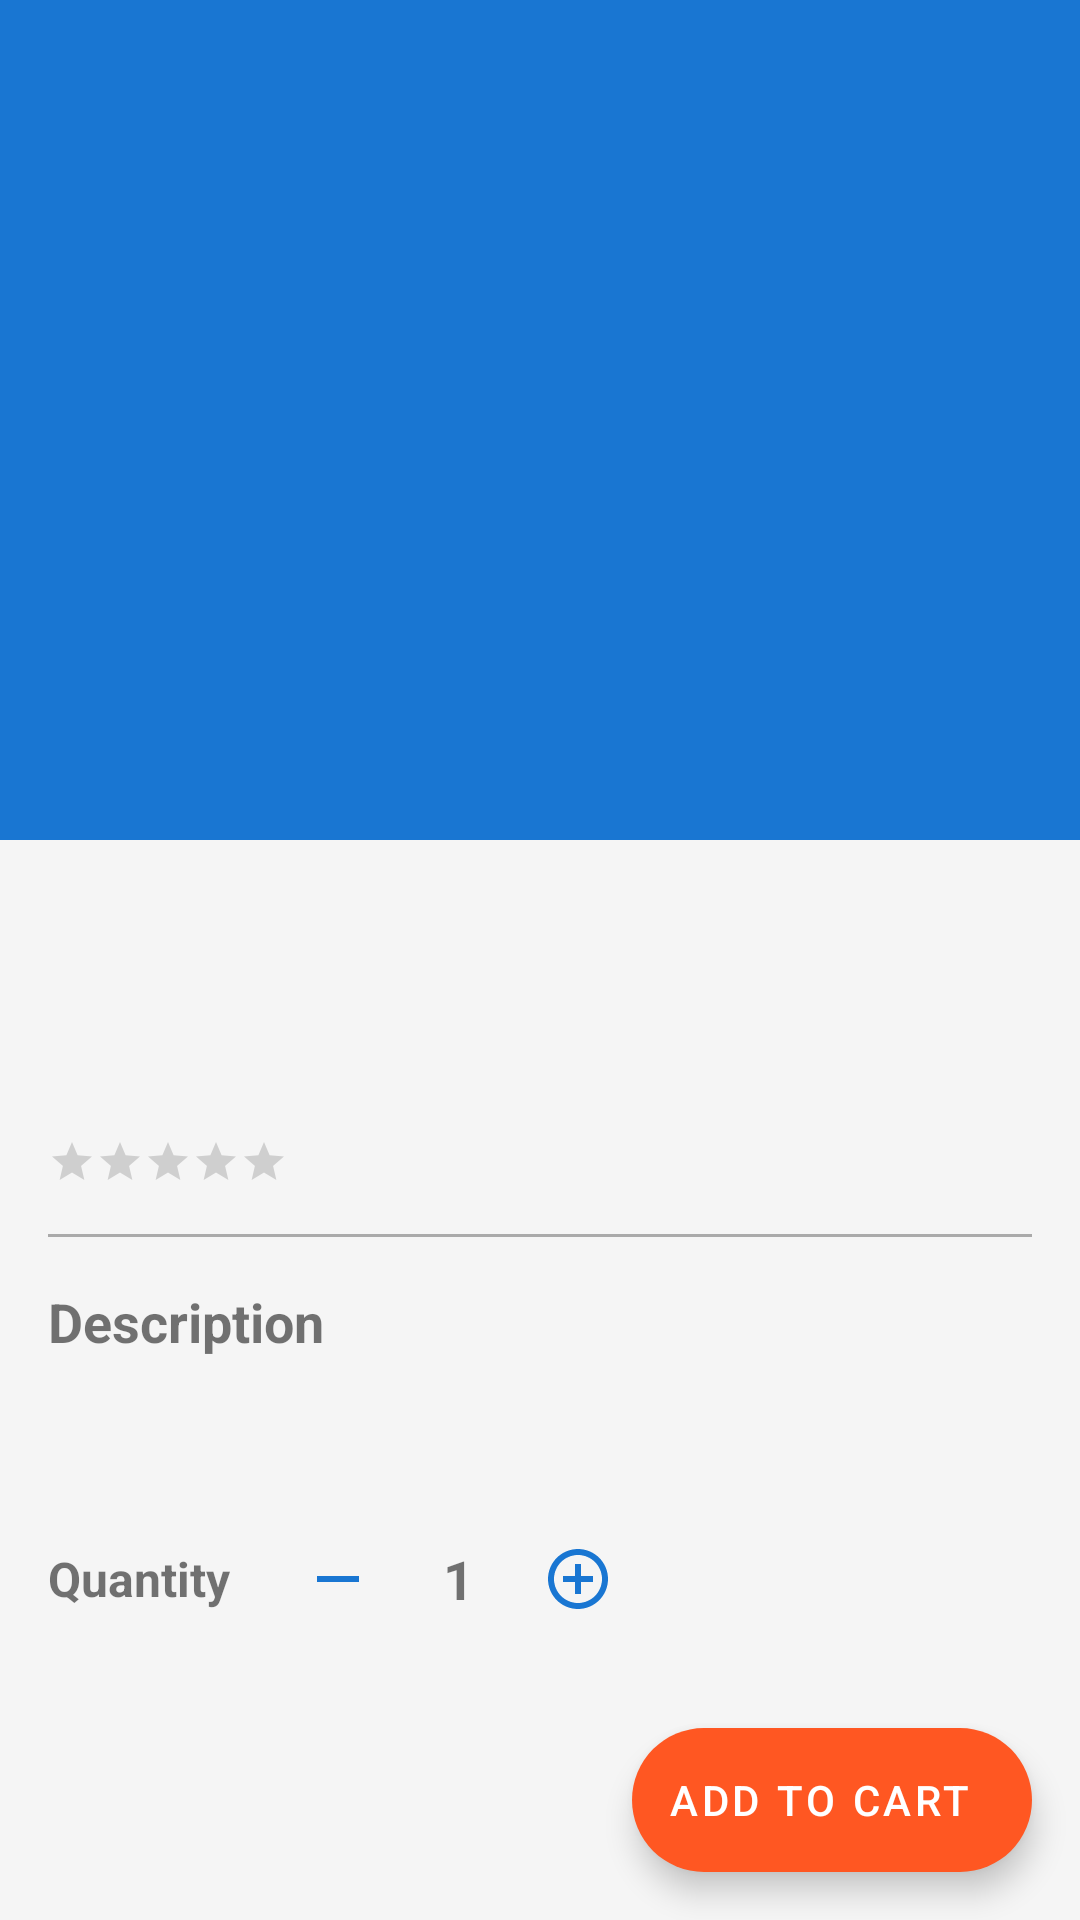

Point at icon controls on the screen. Image size 1080w x 1920h, points as point (x, y).
Increase Quantity: point (578, 1579)
